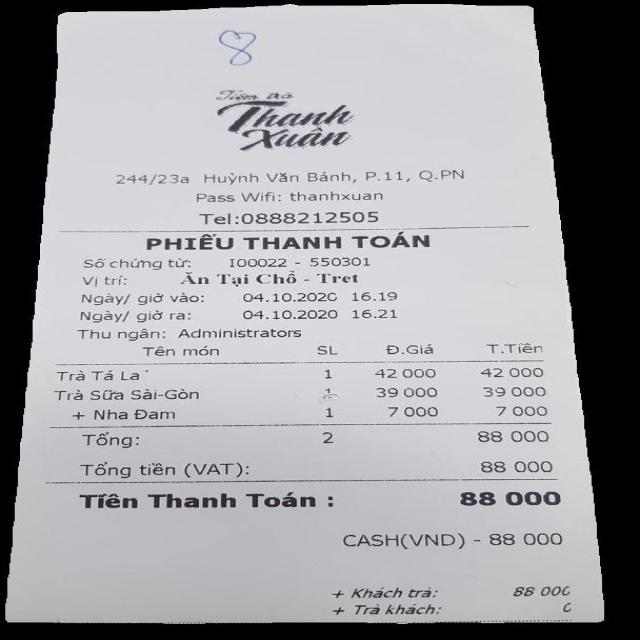Date: (240, 308, 339, 322)
Store_Name: (202, 85, 367, 157)
amount_number: (456, 488, 565, 510)
label_total: (77, 490, 316, 512)
